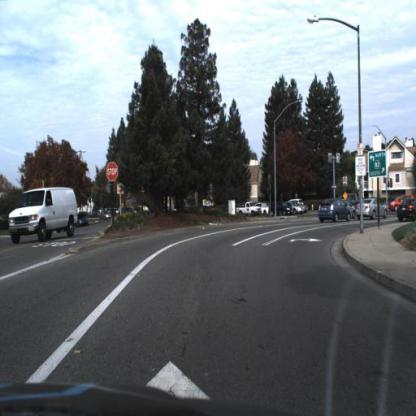car: (10, 184, 80, 248), (318, 195, 353, 226), (354, 194, 389, 224), (318, 197, 353, 226), (354, 195, 388, 221), (237, 200, 264, 221), (267, 201, 293, 219), (269, 200, 291, 221), (76, 207, 94, 231), (79, 209, 94, 229), (262, 199, 271, 218)
